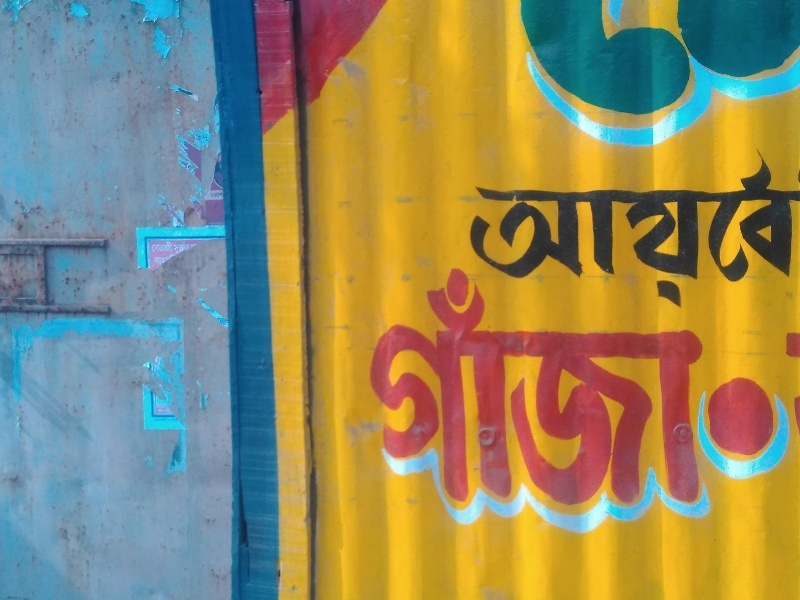text: (353, 246, 368, 539), (369, 246, 384, 539), (385, 246, 400, 539), (401, 246, 416, 539), (417, 246, 432, 539), (433, 246, 448, 539), (449, 246, 464, 539), (465, 246, 480, 539), (481, 246, 496, 539), (497, 246, 512, 539), (513, 246, 528, 539), (529, 246, 544, 539), (545, 246, 560, 539), (561, 246, 576, 539), (577, 246, 592, 539), (593, 246, 608, 539), (609, 246, 624, 539), (625, 246, 640, 539), (641, 246, 656, 539), (657, 246, 672, 539), (673, 246, 688, 539), (689, 246, 704, 539), (705, 246, 720, 539), (721, 246, 736, 539), (737, 246, 752, 539), (753, 246, 768, 539), (769, 246, 784, 539), (481, 147, 496, 325), (497, 147, 512, 325), (513, 147, 528, 325), (529, 147, 544, 325), (545, 147, 560, 325), (561, 147, 576, 325), (577, 147, 592, 325), (593, 147, 608, 325), (609, 147, 624, 325), (625, 147, 640, 325), (641, 147, 656, 325), (657, 147, 672, 325), (673, 147, 688, 325), (689, 147, 704, 325), (705, 147, 720, 325), (721, 147, 736, 325), (737, 147, 752, 325), (753, 147, 768, 325), (769, 147, 784, 325), (343, 246, 352, 539), (785, 147, 799, 325), (529, 1, 544, 150), (545, 1, 560, 150), (561, 1, 576, 150), (577, 1, 592, 150), (593, 1, 608, 150), (609, 1, 624, 150), (625, 1, 640, 150), (641, 1, 656, 150), (657, 1, 672, 150), (673, 1, 688, 150), (689, 1, 704, 150), (705, 1, 720, 150), (721, 1, 736, 150), (737, 1, 752, 150), (753, 1, 768, 150), (769, 1, 784, 150), (785, 1, 800, 150), (516, 1, 528, 150), (113, 201, 128, 286), (129, 201, 144, 286), (145, 201, 160, 286), (161, 201, 176, 286), (177, 201, 192, 286), (193, 201, 208, 286), (209, 201, 223, 286), (785, 246, 789, 539), (474, 147, 480, 325), (106, 201, 112, 286)
